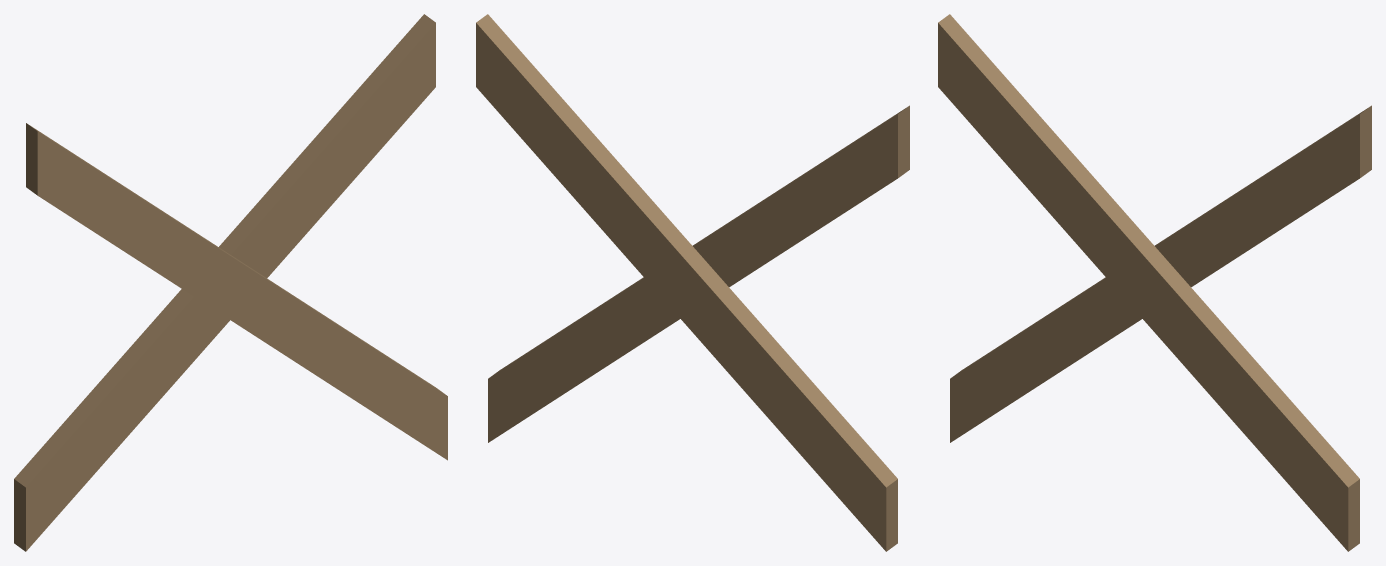
File: Waterwheel_Flume_Support_Brace_Double.obj
3 renders of one model, left to right at view 1: azimuth 30°, elevation 25°; view 2: azimuth 150°, elevation 25°; view 3: azimuth 330°, elevation 25°, orthographic.
Visible parts, largest first — view 1: flume_support_brace; view 2: flume_support_brace; view 3: flume_support_brace.
Boxes of the visible parts, x1,y1,x2,y2 form: flume_support_brace: [14, 14, 447, 551]; flume_support_brace: [476, 14, 909, 551]; flume_support_brace: [938, 14, 1371, 551].
Size of the model in its own units: 1 by 1 by 0.1.
